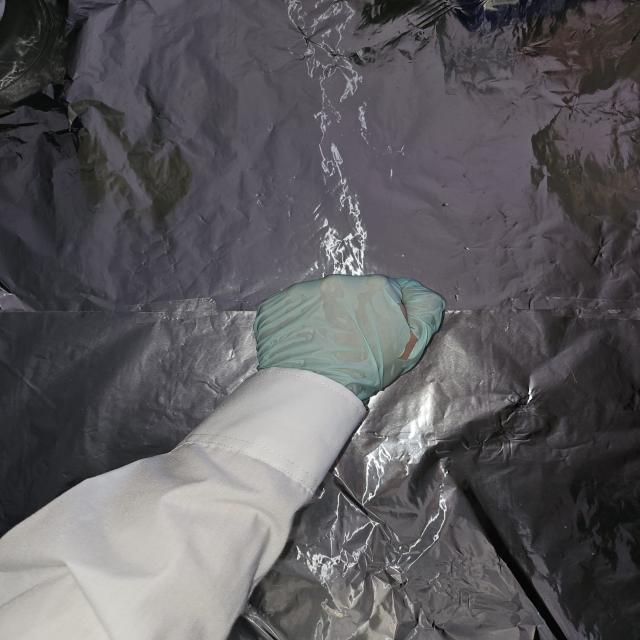gloves_damaged: (250, 274, 450, 410)
